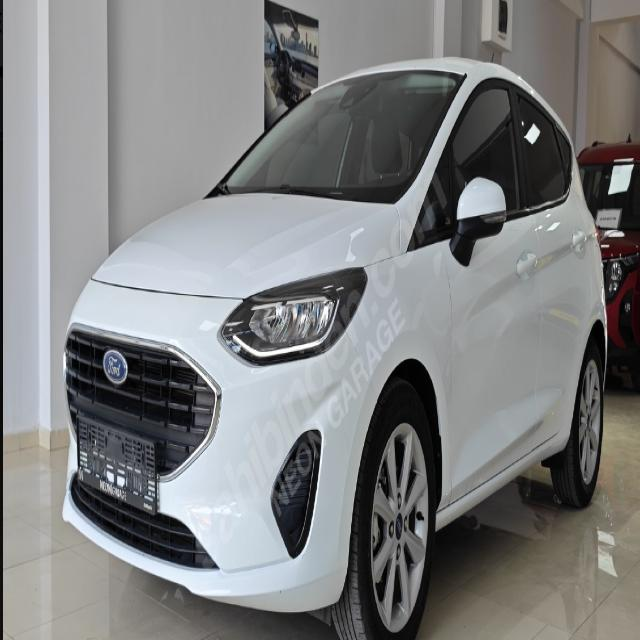ford: (102, 341, 129, 390)
